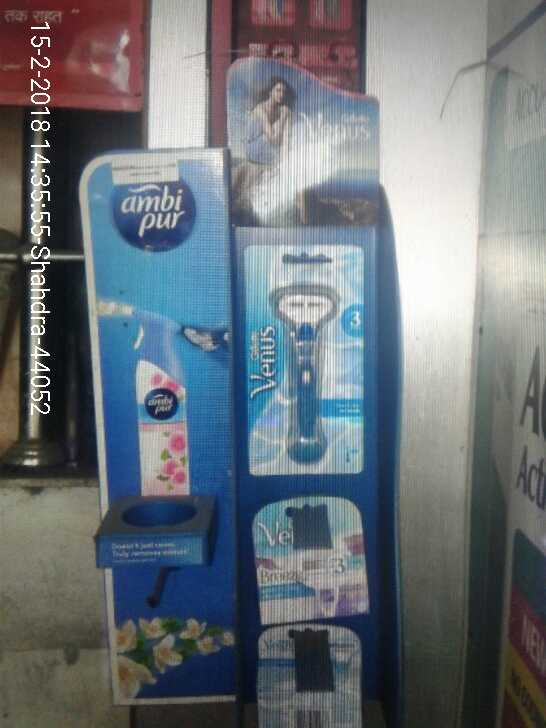venus: (239, 234, 372, 476), (240, 492, 372, 626)
